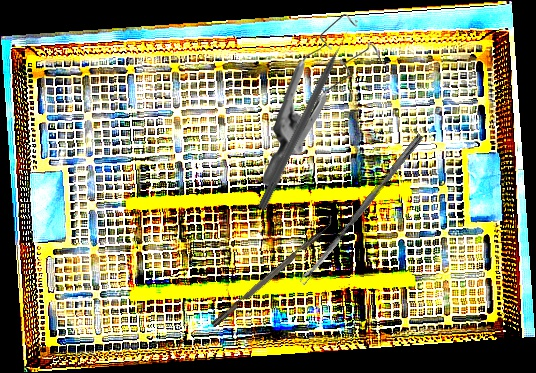Chopper: (205, 213, 339, 328)
Pusher: (256, 27, 355, 212)
Speculum: (259, 11, 383, 188)
Surgical Spoon: (298, 132, 424, 286)
